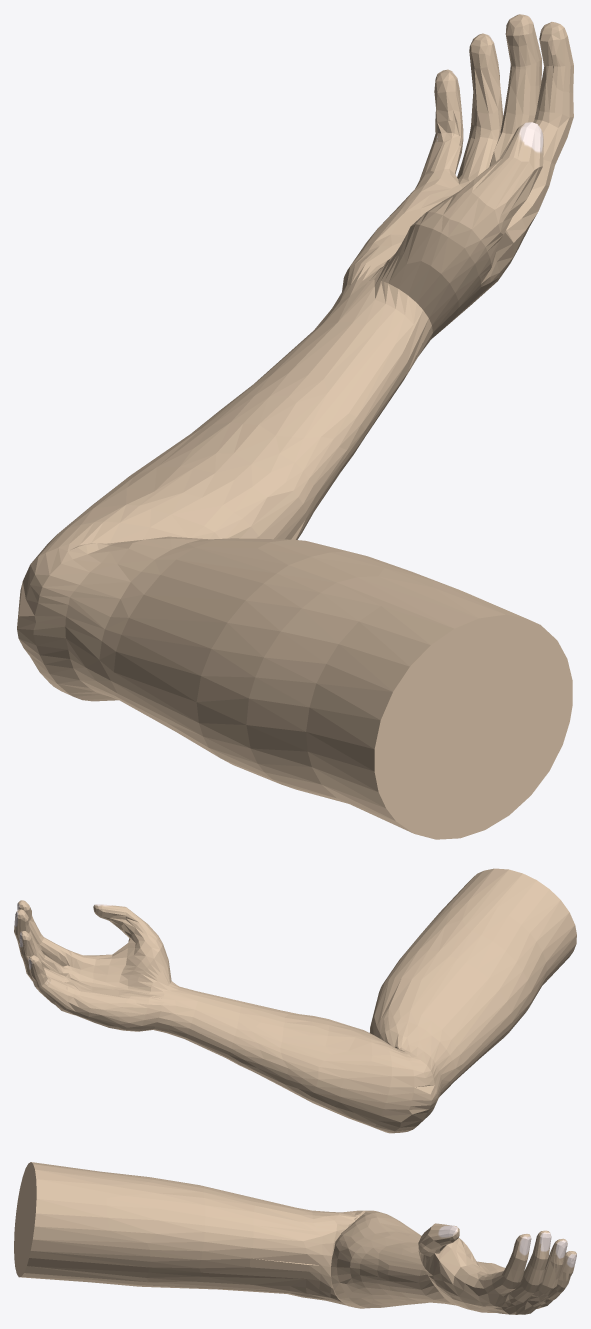
The model's file is Hand_Rest.obj.
3 views of the same model, one above another, from view 1: azimuth 30°, elevation 25°; view 2: azimuth 150°, elevation 25°; view 3: azimuth 270°, elevation 25° (orthographic). The views are drawn at different scales.
Parts seen in each view (by area): view 1: Cylinder_Cylinder.001; view 2: Cylinder_Cylinder.001; view 3: Cylinder_Cylinder.001.
Part boxes in pixels (bbox=[...]): Cylinder_Cylinder.001: bbox=[17, 14, 573, 839]; Cylinder_Cylinder.001: bbox=[14, 868, 576, 1133]; Cylinder_Cylinder.001: bbox=[14, 1162, 576, 1314].
Size of the model in its own units: 2.69 by 1.57 by 3.49.
